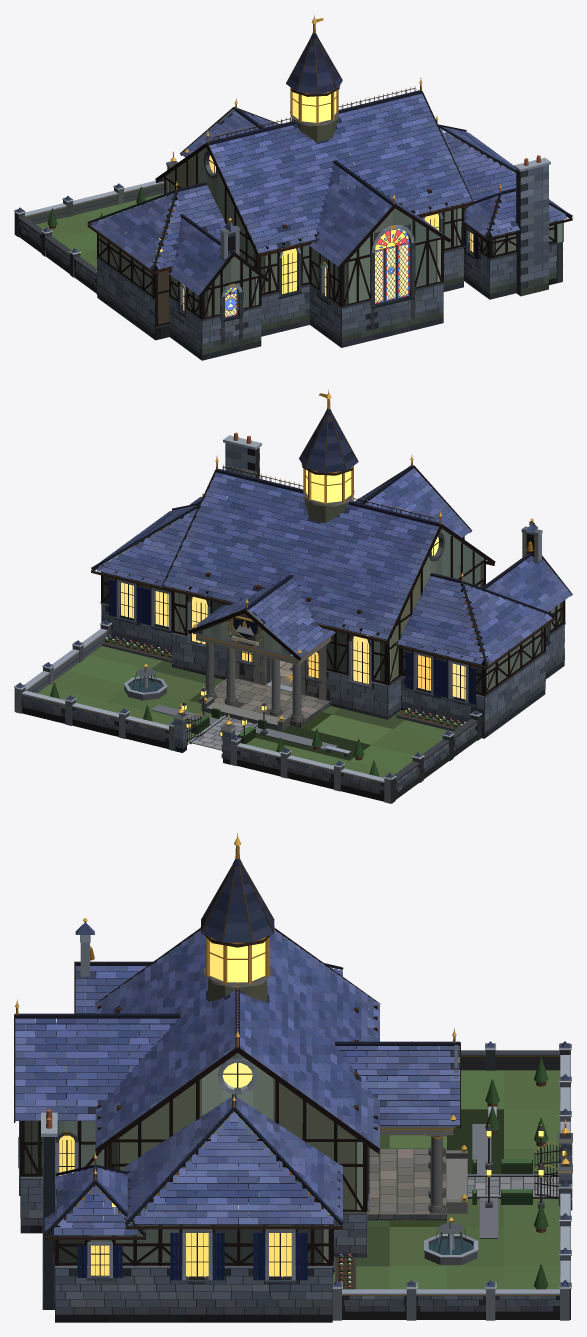
File: manor.glb
The picture shows the model from 3 angles, top to bottom: view 1: azimuth 30°, elevation 25°; view 2: azimuth 150°, elevation 25°; view 3: azimuth 270°, elevation 25°; orthographic projection. The views are drawn at different scales.
Parts seen in each view (by area): view 1: ManorRoof, ManorShell, ManorGrounds, ManorGlow, ManorTrim, G_INT_Timber; view 2: ManorRoof, ManorShell, ManorGrounds, ManorTrim, ManorGlow, G_INT_Timber; view 3: ManorRoof, ManorShell, ManorGrounds, ManorGlow, ManorTrim, G_INT_Timber.
Boxes of the visible parts, <box> form: ManorRoof: <box>87,33,572,297</box>; ManorShell: <box>96,99,563,360</box>; ManorGrounds: <box>14,151,177,294</box>; ManorGlow: <box>168,91,414,317</box>; ManorTrim: <box>184,14,408,317</box>; G_INT_Timber: <box>223,97,441,236</box>; ManorRoof: <box>91,409,572,669</box>; ManorShell: <box>100,432,565,738</box>; ManorGrounds: <box>14,619,481,803</box>; ManorTrim: <box>193,389,534,721</box>; ManorGlow: <box>181,470,532,735</box>; G_INT_Timber: <box>190,477,426,623</box>; ManorRoof: <box>14,858,460,1239</box>; ManorShell: <box>18,935,467,1322</box>; ManorGrounds: <box>332,1041,572,1320</box>; ManorGlow: <box>210,941,564,1175</box>; ManorTrim: <box>15,833,467,1201</box>; G_INT_Timber: <box>116,944,358,1195</box>.
Bounding box in the file's own units: 51.25 × 34.1 × 47.15.
